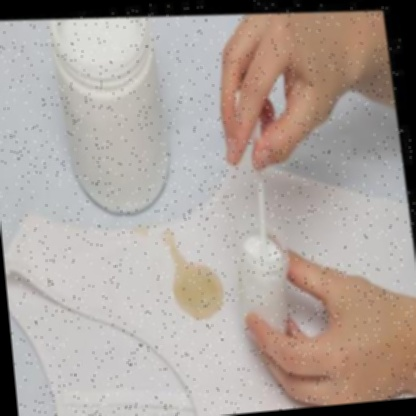coffee: (179, 271, 215, 310)
